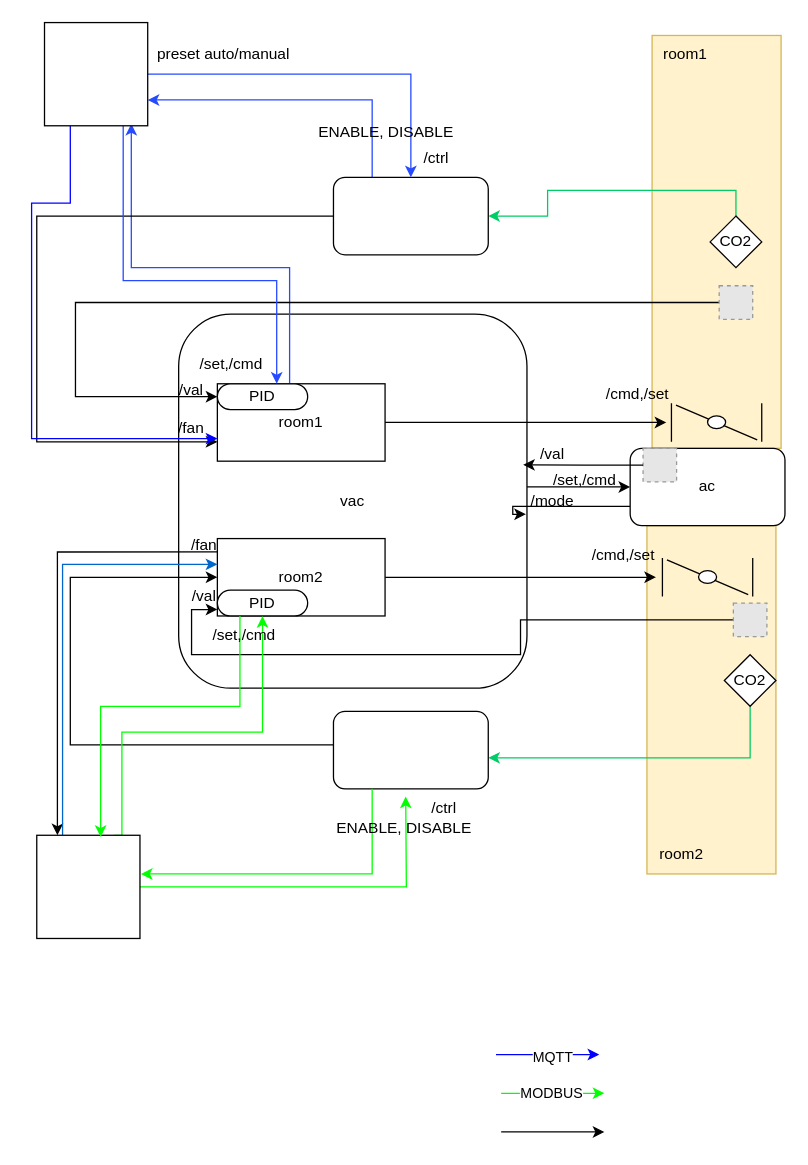
Image size: 808x1165. Some labels were removed from this diagram. Grey dashed boxes stand in for pictures. Each missing label, with the centre of its shape:
HA MQTT HVAC: point 95,73
PID co2room1: point 410,215
PID co2room2: point 410,749
wall PANEL Zentec 31: point 87,886
